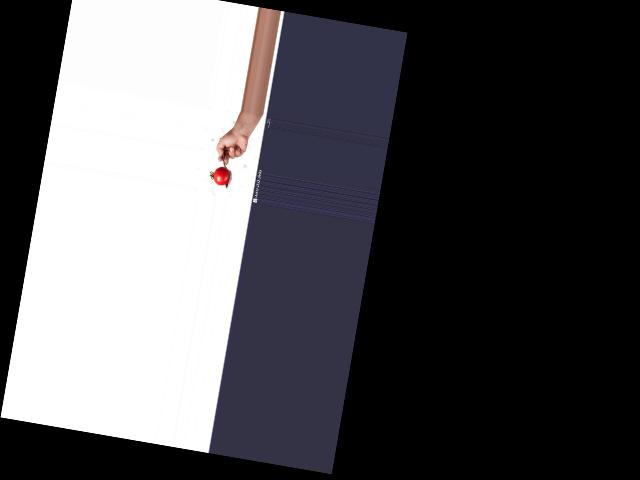tomato: (212, 165, 230, 186)
